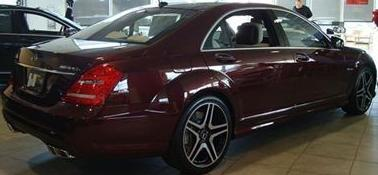back_view: (11, 49, 139, 157)
backlight: (54, 54, 137, 113)
side_glass: (223, 10, 334, 54)
